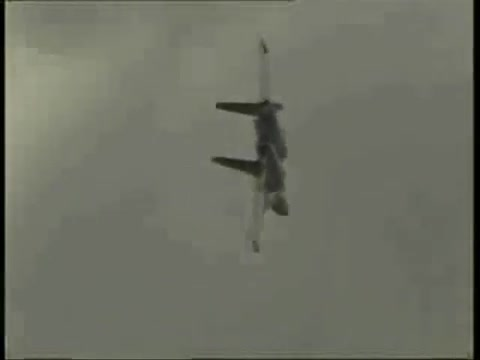aeroplane: (213, 32, 293, 264)
